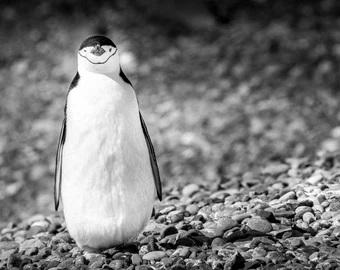chinstrap: (45, 28, 185, 259)
